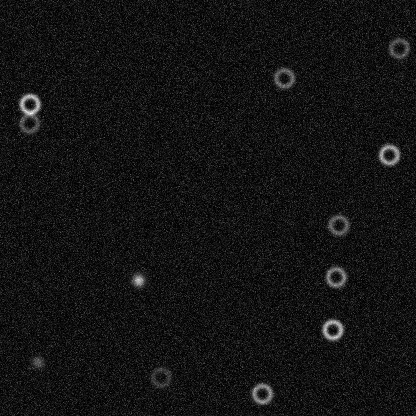Ring: (17, 92, 41, 116), (326, 212, 350, 236), (17, 111, 41, 135), (386, 36, 410, 60), (320, 317, 344, 341), (148, 365, 172, 389), (323, 264, 347, 288), (377, 142, 401, 166), (272, 66, 296, 90), (250, 381, 274, 405)
Spot: (29, 353, 45, 369), (130, 272, 146, 288)
